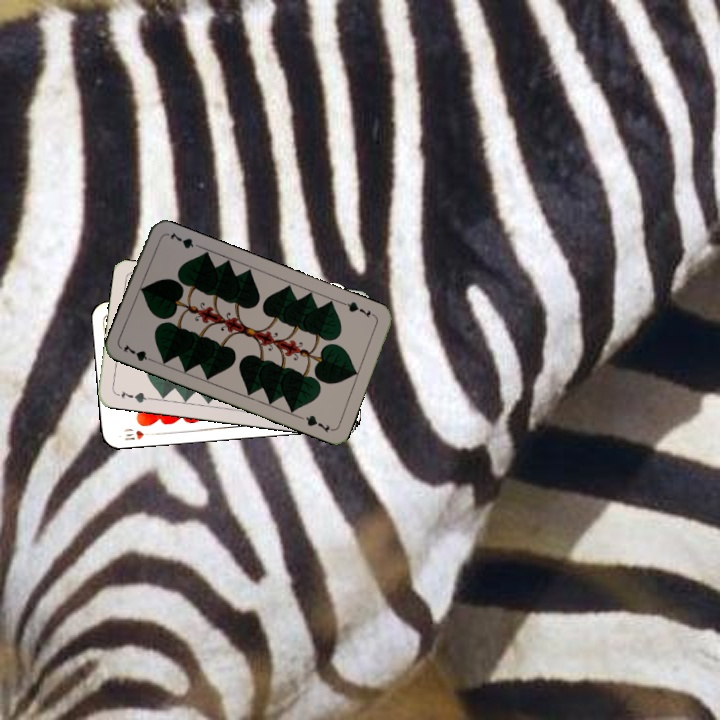G7: (119, 340, 158, 365), (339, 297, 378, 321), (117, 387, 153, 405)
H10: (119, 424, 156, 443)
